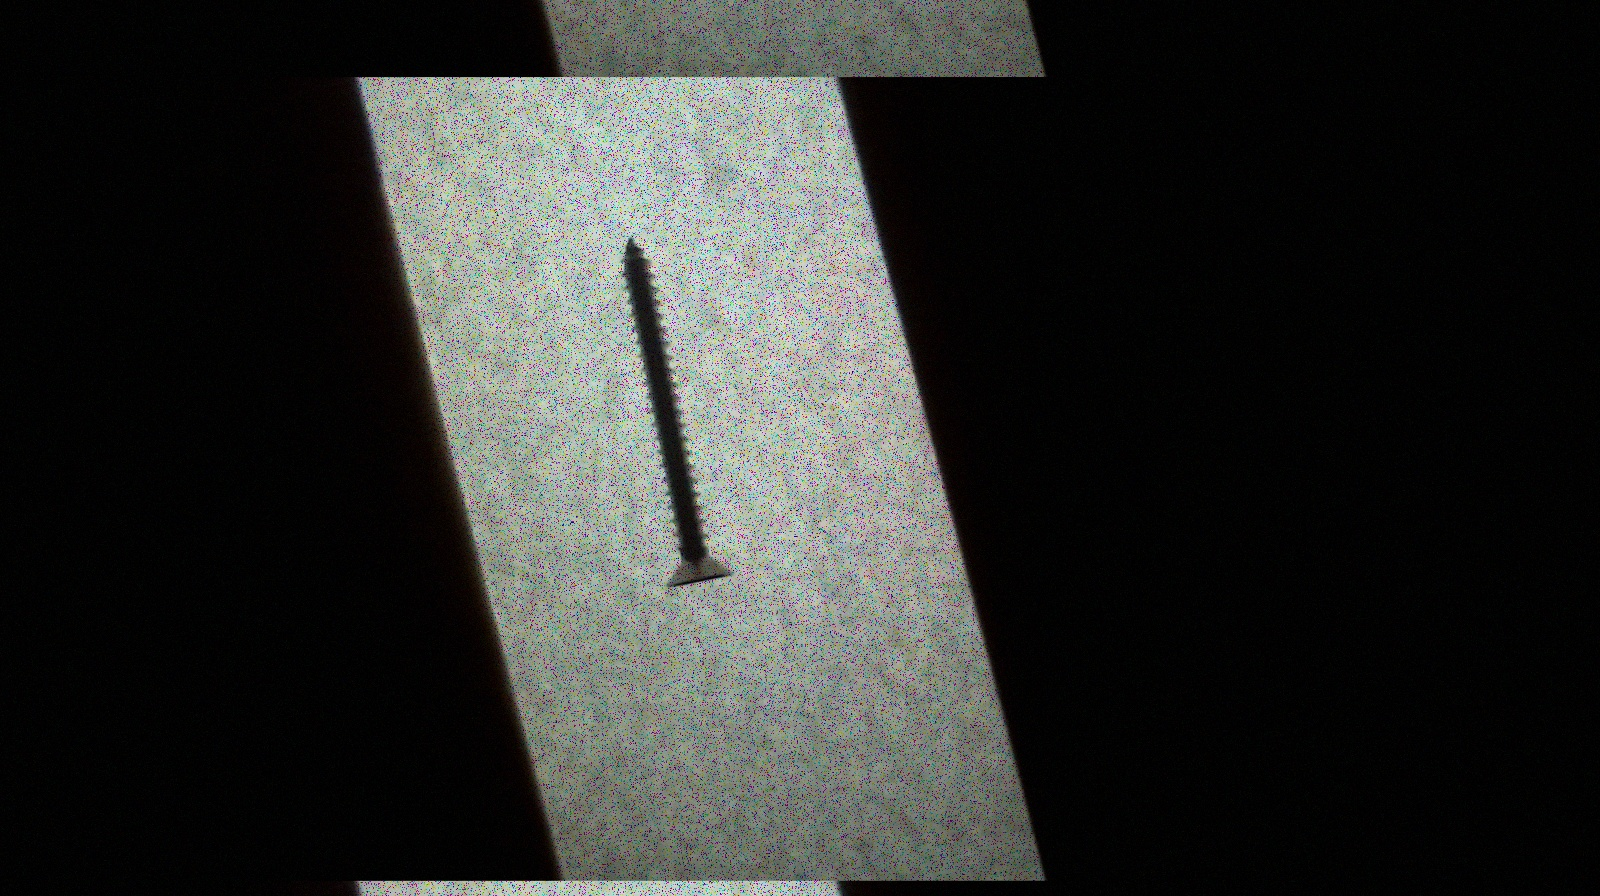S002: (591, 232, 752, 594)
